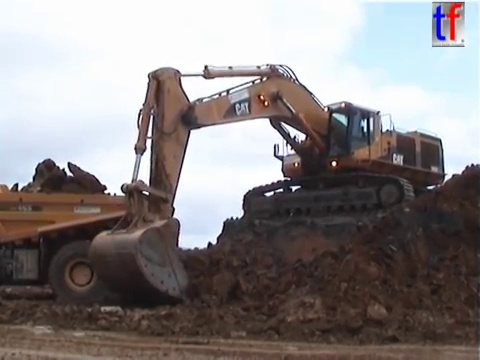excavator: (85, 60, 451, 308)
truck: (1, 181, 179, 311)
